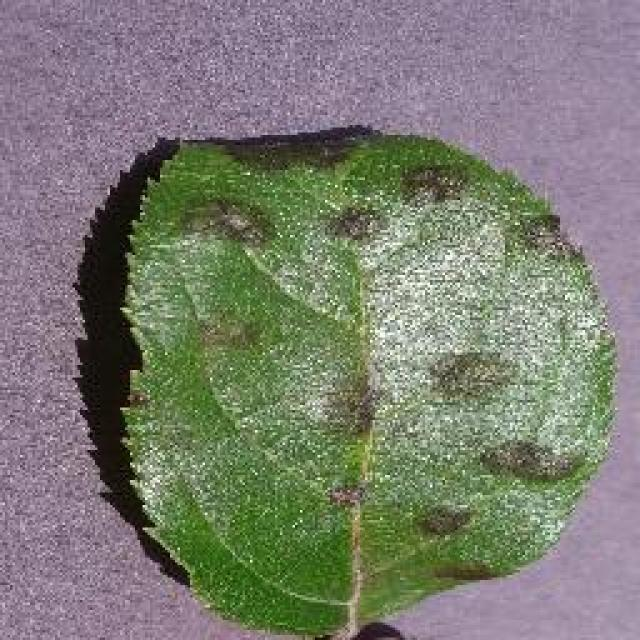apple scab disease: (95, 120, 620, 638)
